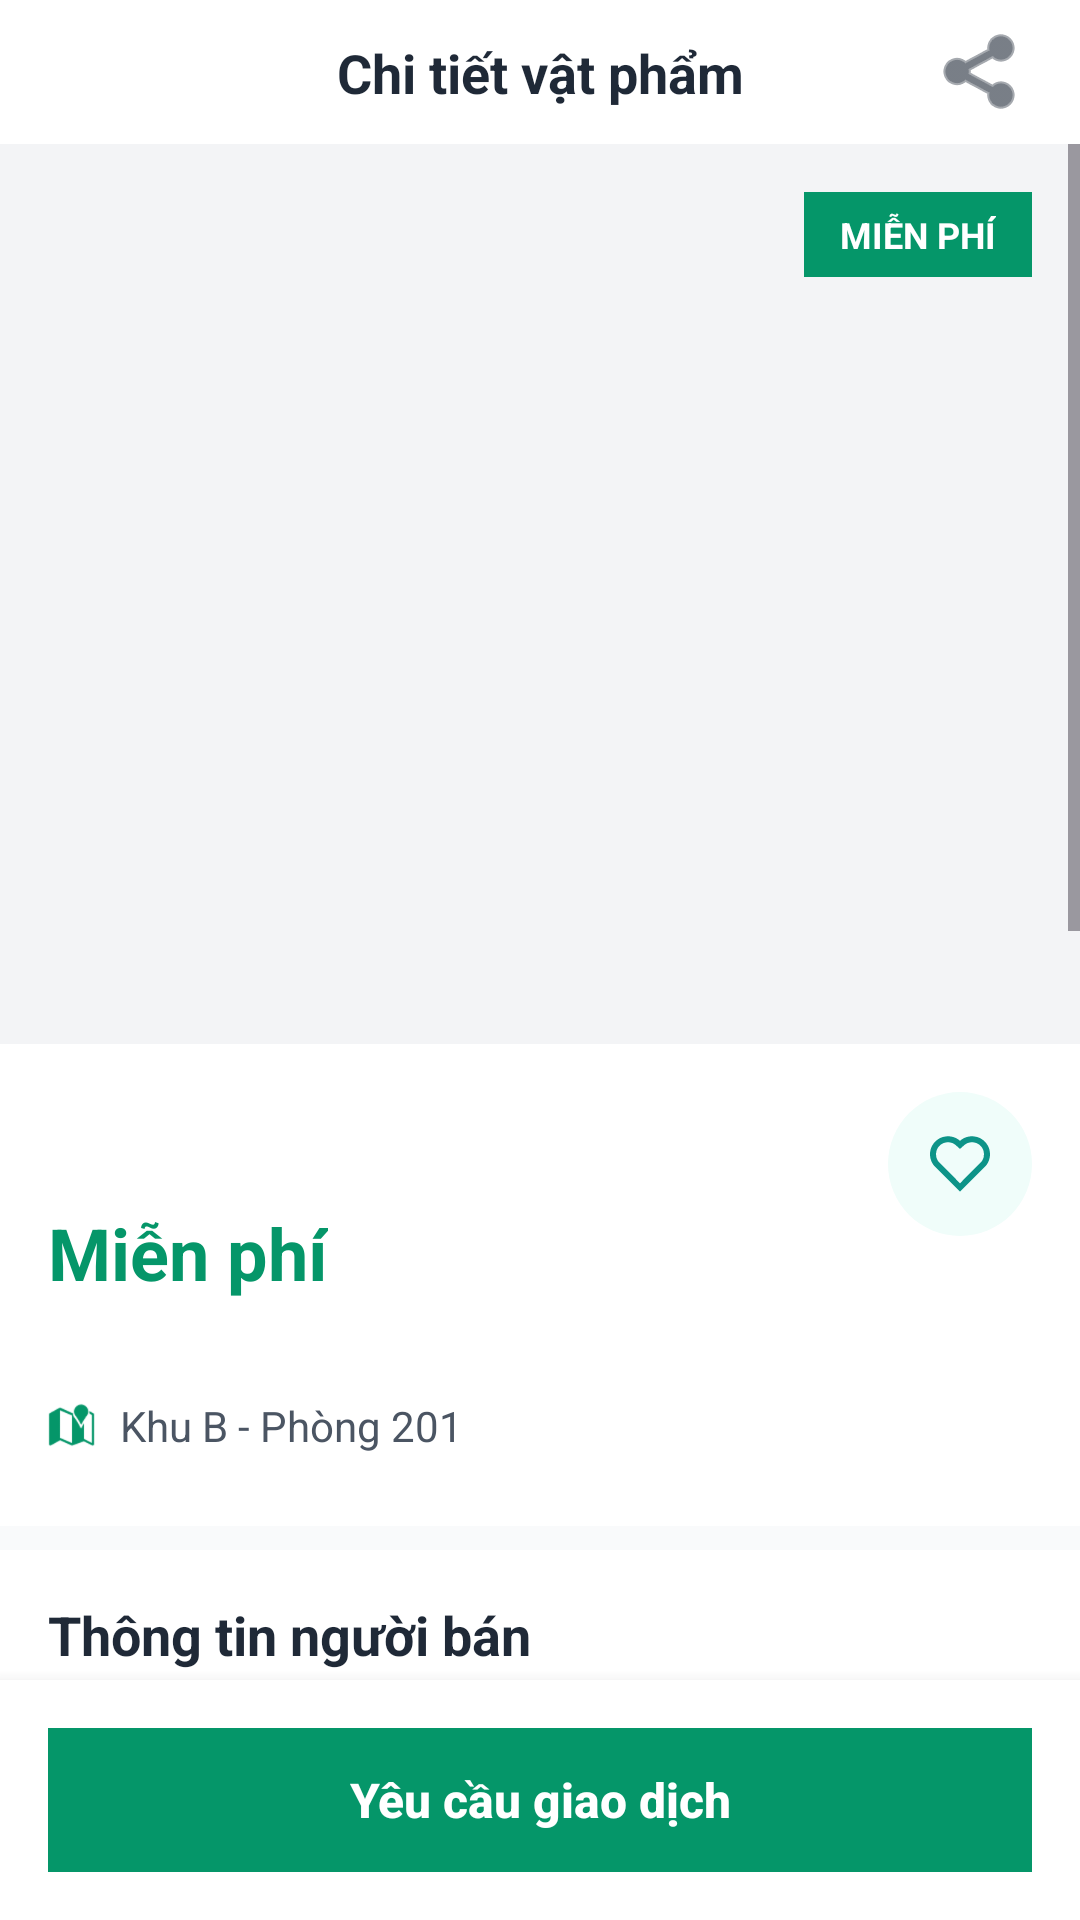

Where to tap for icons on this 1080w x 1920h app screen, as (x,y):
favorite heart: (960,1164)
map: (71,1425)
share: (979,71)
